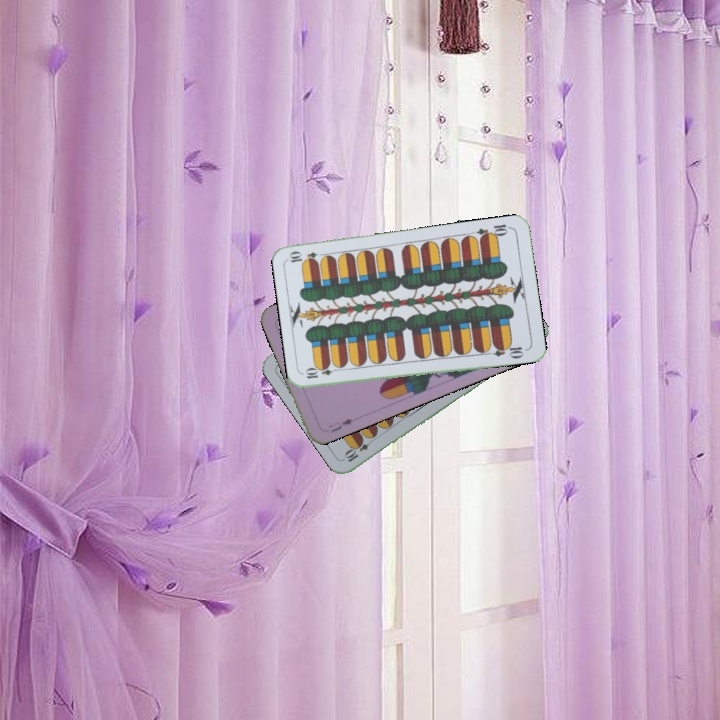E10: (341, 433, 377, 465), (473, 220, 513, 243), (301, 363, 342, 381)
EU: (325, 414, 356, 435)
